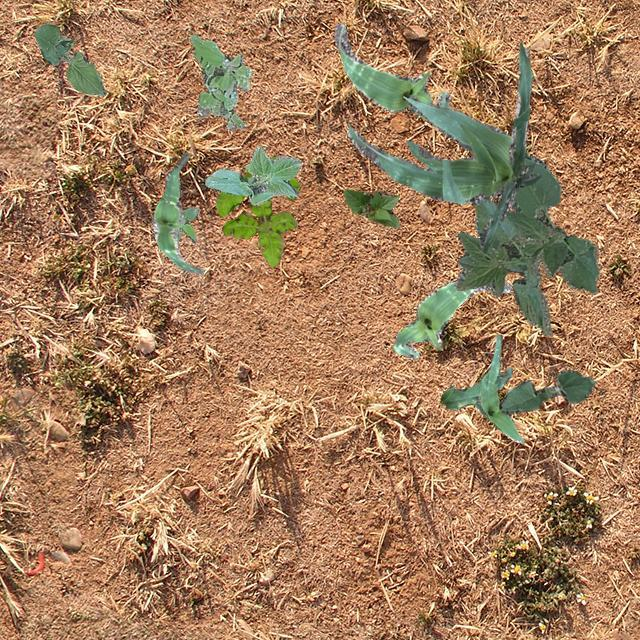crop: (347, 42, 540, 250), (453, 153, 598, 334), (334, 22, 448, 114), (438, 333, 522, 442), (392, 280, 509, 358), (152, 152, 202, 274), (203, 144, 300, 204), (32, 22, 104, 94), (498, 368, 594, 412), (342, 188, 398, 226)
weed: (214, 170, 298, 266), (190, 34, 250, 130), (175, 205, 198, 242)
